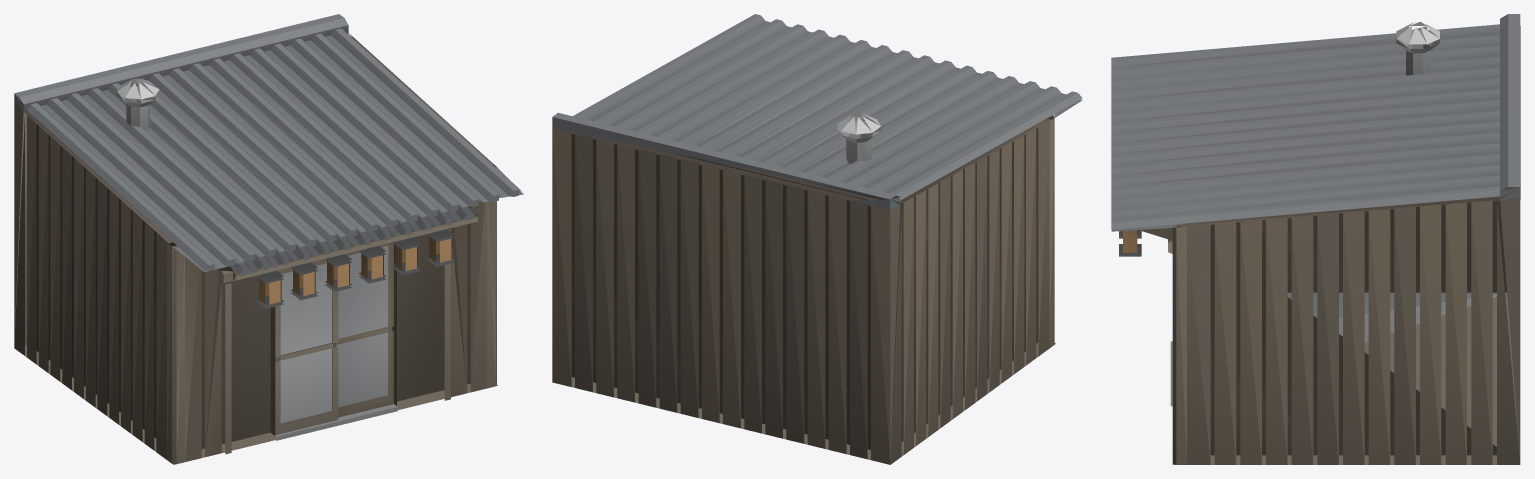
File: barhut.lod.glb
The picture shows the model from 3 angles, left to right: view 1: azimuth 30°, elevation 25°; view 2: azimuth 150°, elevation 25°; view 3: azimuth 270°, elevation 25°; orthographic projection. The views are drawn at different scales.
Visible parts, largest first — view 1: barhut; view 2: barhut; view 3: barhut.
Boxes of the visible parts, <box> form: barhut: <box>14,14,523,464</box>; barhut: <box>552,14,1082,464</box>; barhut: <box>1111,14,1520,464</box>.
Bounding box in the file's own units: 4 × 3.34 × 4.
